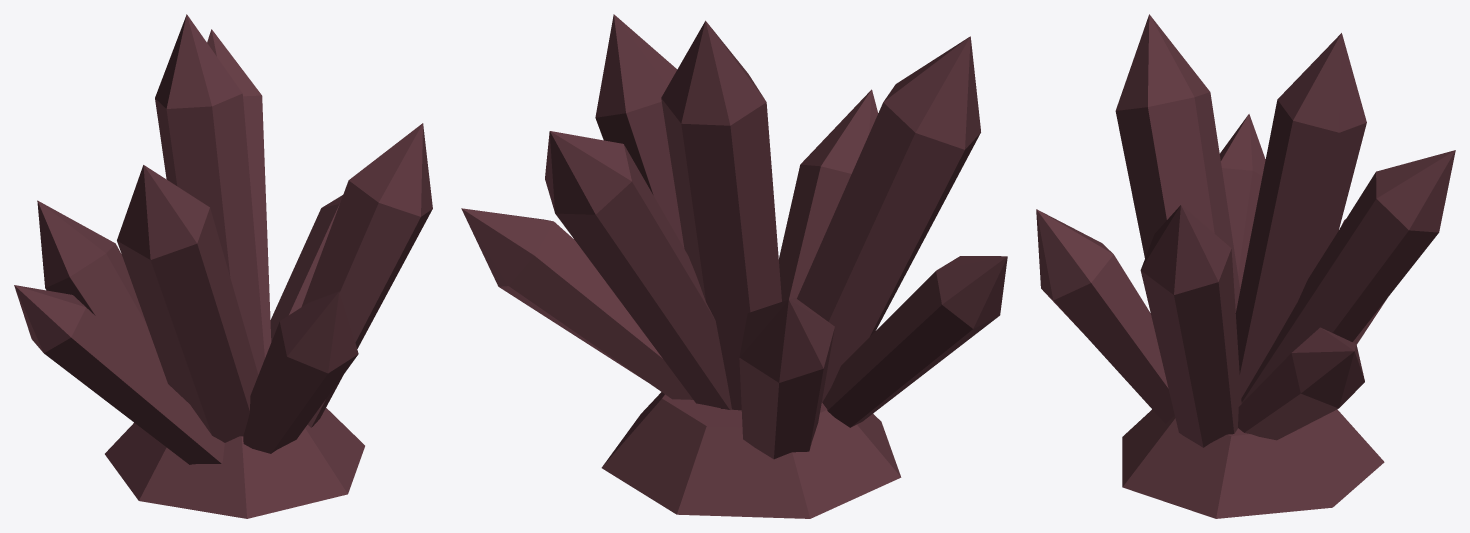
Rendered from crystals.fbx.
The picture shows the model from 3 angles, left to right: view 1: azimuth 30°, elevation 25°; view 2: azimuth 150°, elevation 25°; view 3: azimuth 270°, elevation 25°; orthographic projection. The views are drawn at different scales.
Parts seen in each view (by area): view 1: crystals; view 2: crystals; view 3: crystals.
Part boxes in pixels (x1=…): crystals: x1=14, y1=14, x2=432, y2=518; crystals: x1=461, y1=14, x2=1007, y2=518; crystals: x1=1036, y1=14, x2=1455, y2=518.
Size of the model in its own units: 1.59 by 1.5 by 1.32.
